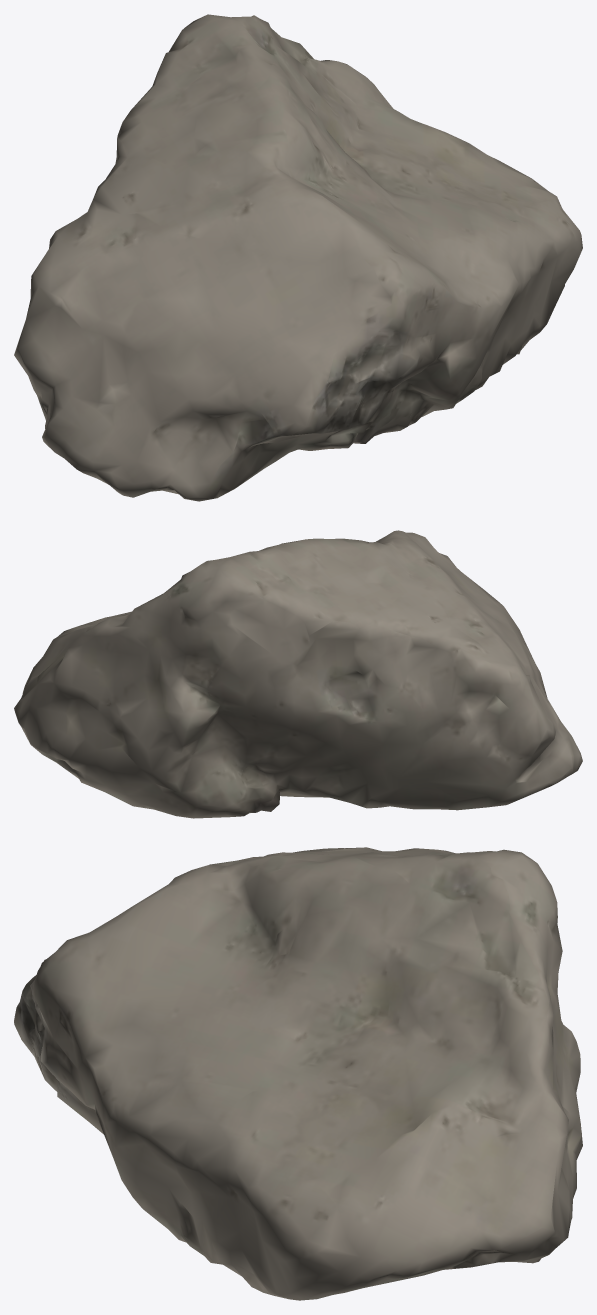
File: moon_rock_03.glb
3 views of the same model, one above another, from view 1: azimuth 30°, elevation 25°; view 2: azimuth 150°, elevation 25°; view 3: azimuth 270°, elevation 25° (orthographic). The views are drawn at different scales.
Visible parts, largest first — view 1: moon_rock_03_LOD0; view 2: moon_rock_03_LOD0; view 3: moon_rock_03_LOD0.
Part boxes in pixels (bbox=[...]): moon_rock_03_LOD0: bbox=[14, 14, 582, 501]; moon_rock_03_LOD0: bbox=[14, 530, 582, 818]; moon_rock_03_LOD0: bbox=[14, 847, 582, 1300].
Bounding box in the file's own units: 0.112 × 0.0582 × 0.0861.
Materials: 1 (1 with a texture image).
